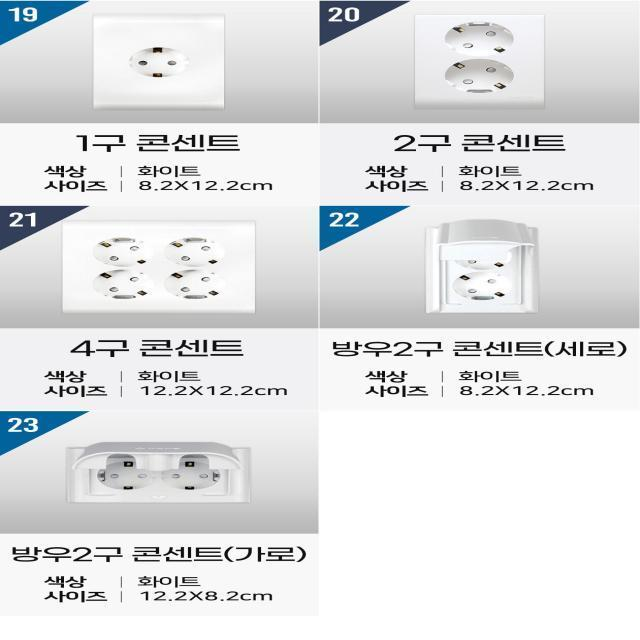typeb: (53, 215, 278, 317), (402, 9, 559, 111), (87, 11, 234, 114), (53, 441, 263, 513), (416, 219, 549, 318)
